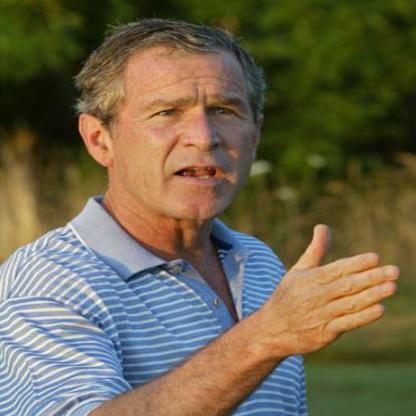face: (105, 22, 262, 226)
